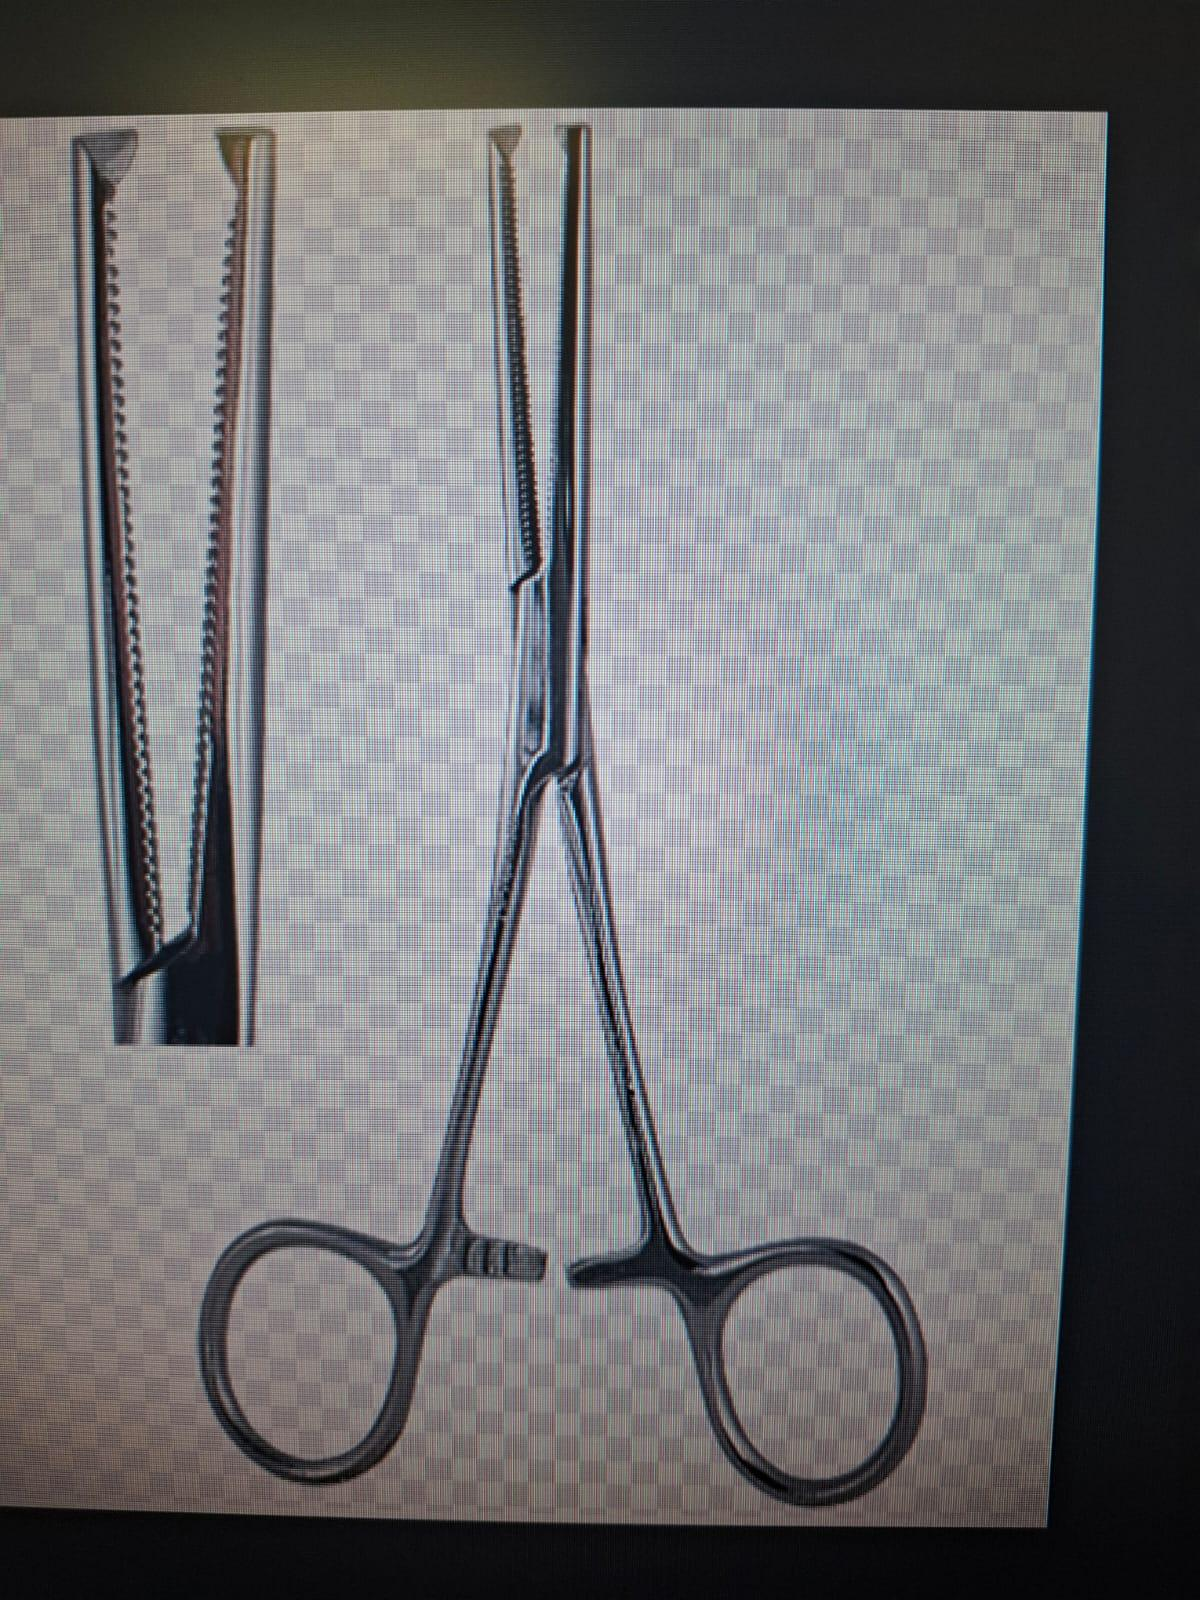Kocher Forceps: (200, 115, 945, 1518)
